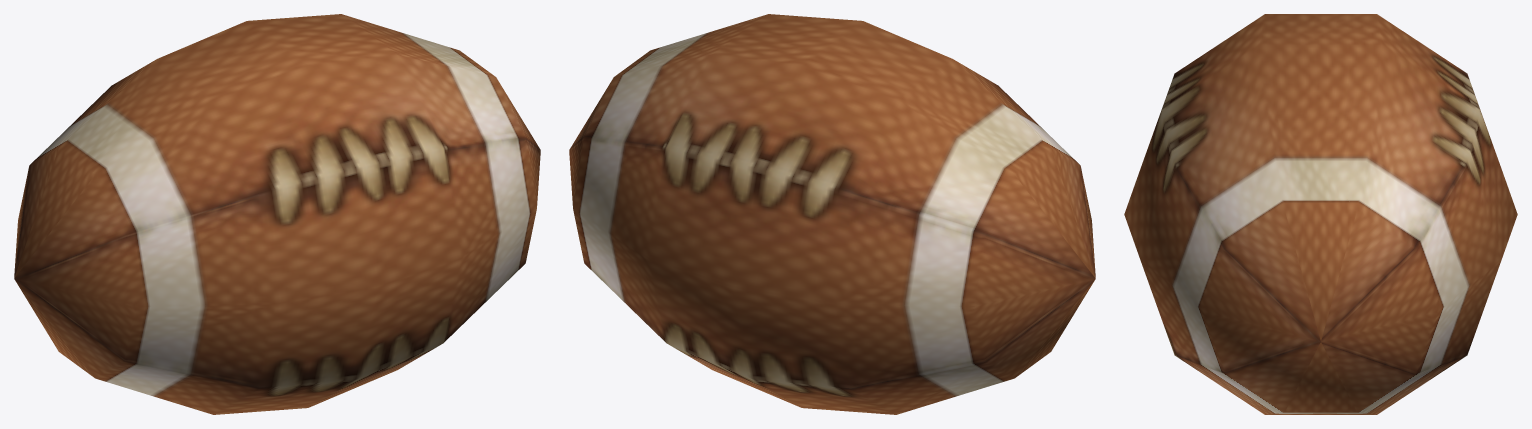
Rendered from a_SWArugby.glb.
The picture shows the model from 3 angles, left to right: view 1: azimuth 30°, elevation 25°; view 2: azimuth 150°, elevation 25°; view 3: azimuth 270°, elevation 25°; orthographic projection.
Visible parts, largest first — view 1: a_SWArugby; view 2: a_SWArugby; view 3: a_SWArugby.
Boxes of the visible parts, x1=… form: a_SWArugby: x1=14, y1=14, x2=540, y2=414; a_SWArugby: x1=569, y1=14, x2=1095, y2=414; a_SWArugby: x1=1124, y1=14, x2=1517, y2=414.
Bounding box in the file's own units: 0.9516 × 0.5908 × 0.6212.
1 material, 1 textured.
